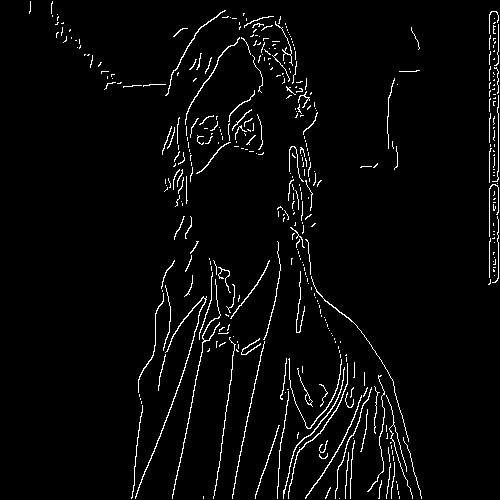mask: (192, 148, 284, 256)
